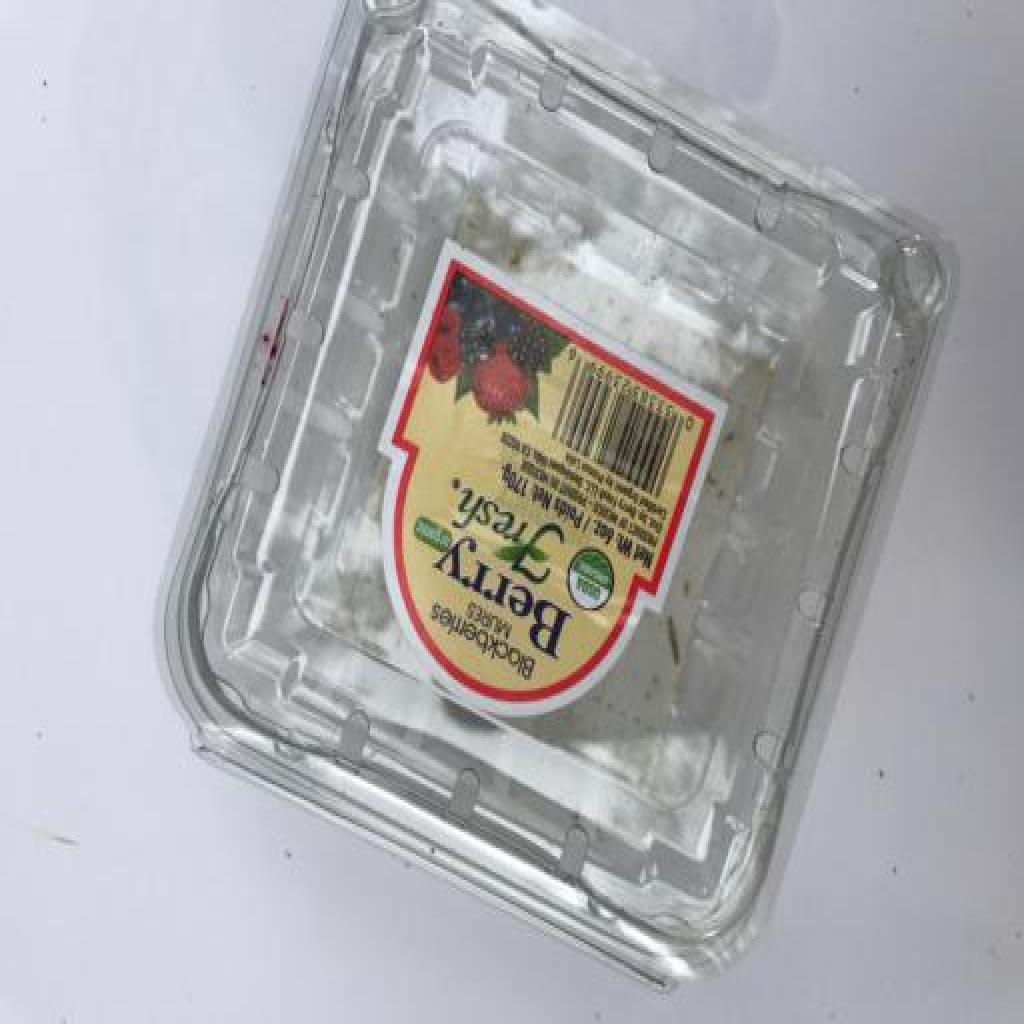organico: (145, 0, 964, 991)
